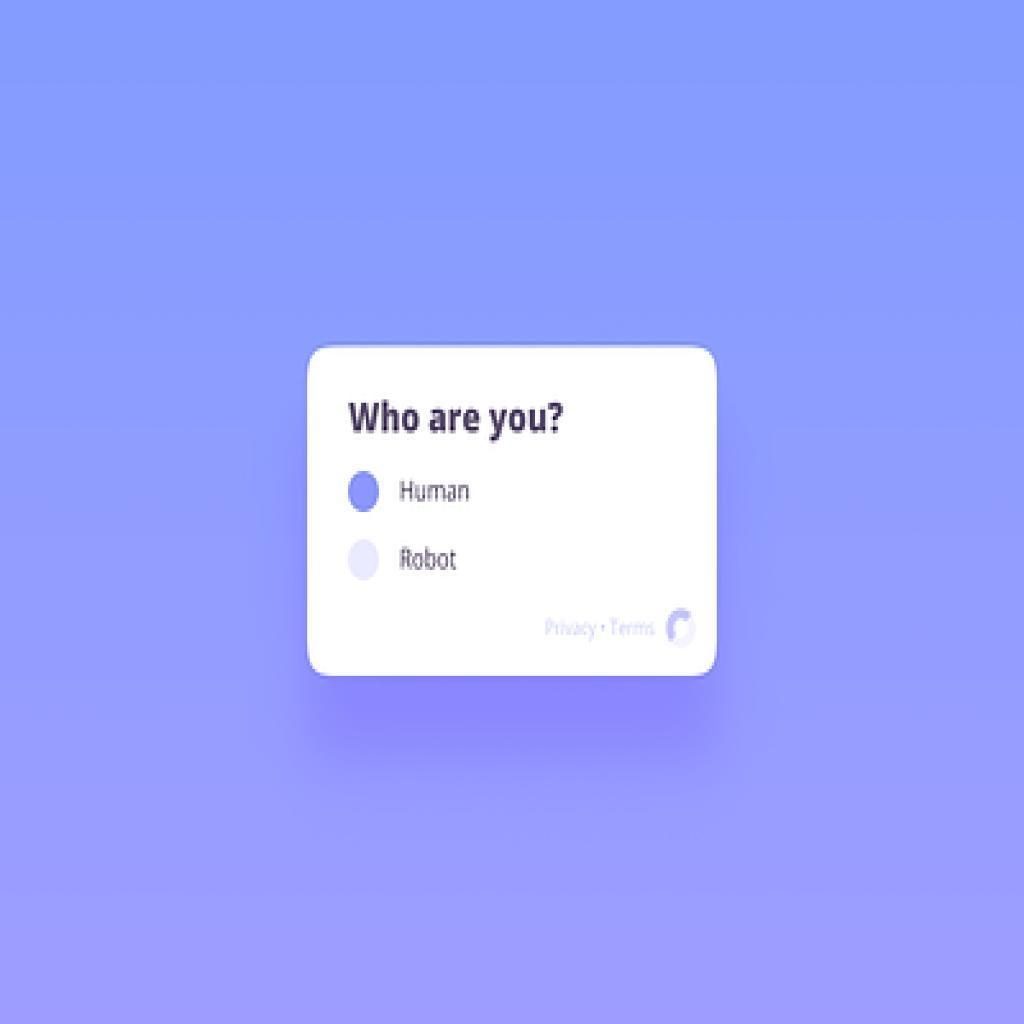label: (349, 391, 569, 442), (396, 477, 472, 509), (397, 543, 472, 575)
radio: (349, 469, 383, 519), (347, 537, 381, 585)
